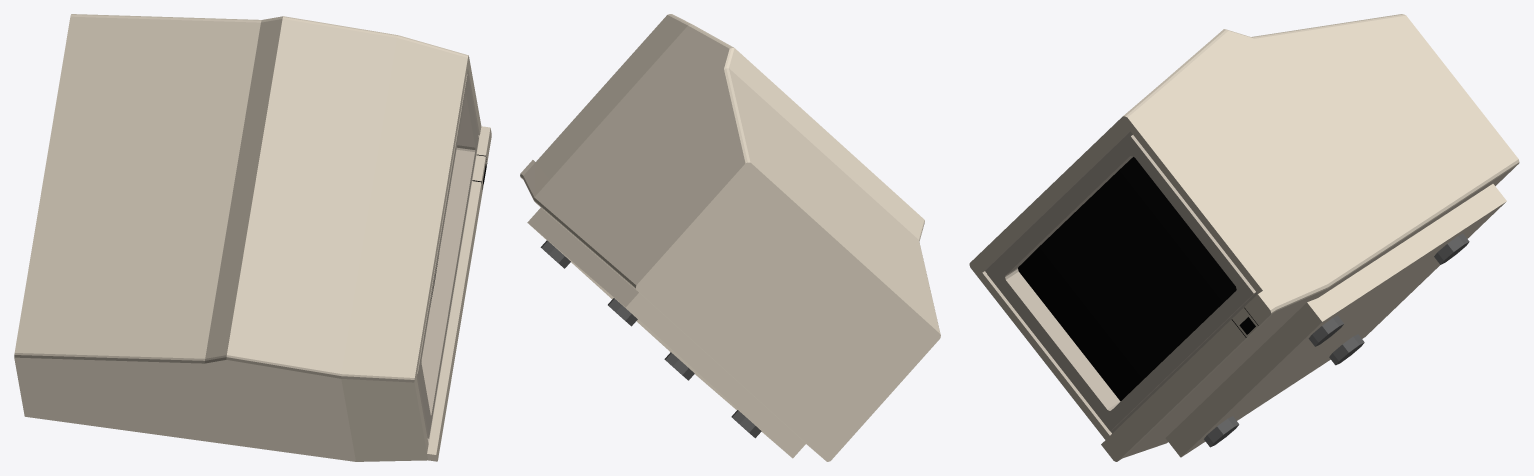
The model's file is NTSC_MON.glb.
3 views of the same model, side by side, from view 1: azimuth 30°, elevation 25°; view 2: azimuth 150°, elevation 25°; view 3: azimuth 270°, elevation 25° (orthographic). The views are drawn at different scales.
Parts seen in each view (by area): view 1: _0; view 2: _0; view 3: _0.
Part boxes in pixels (left/top/right/bottom): _0: left=14, top=14, right=491, bottom=461; _0: left=520, top=14, right=940, bottom=461; _0: left=969, top=14, right=1519, bottom=461.
Size of the model in its own units: 6.79 by 5.65 by 7.11.
